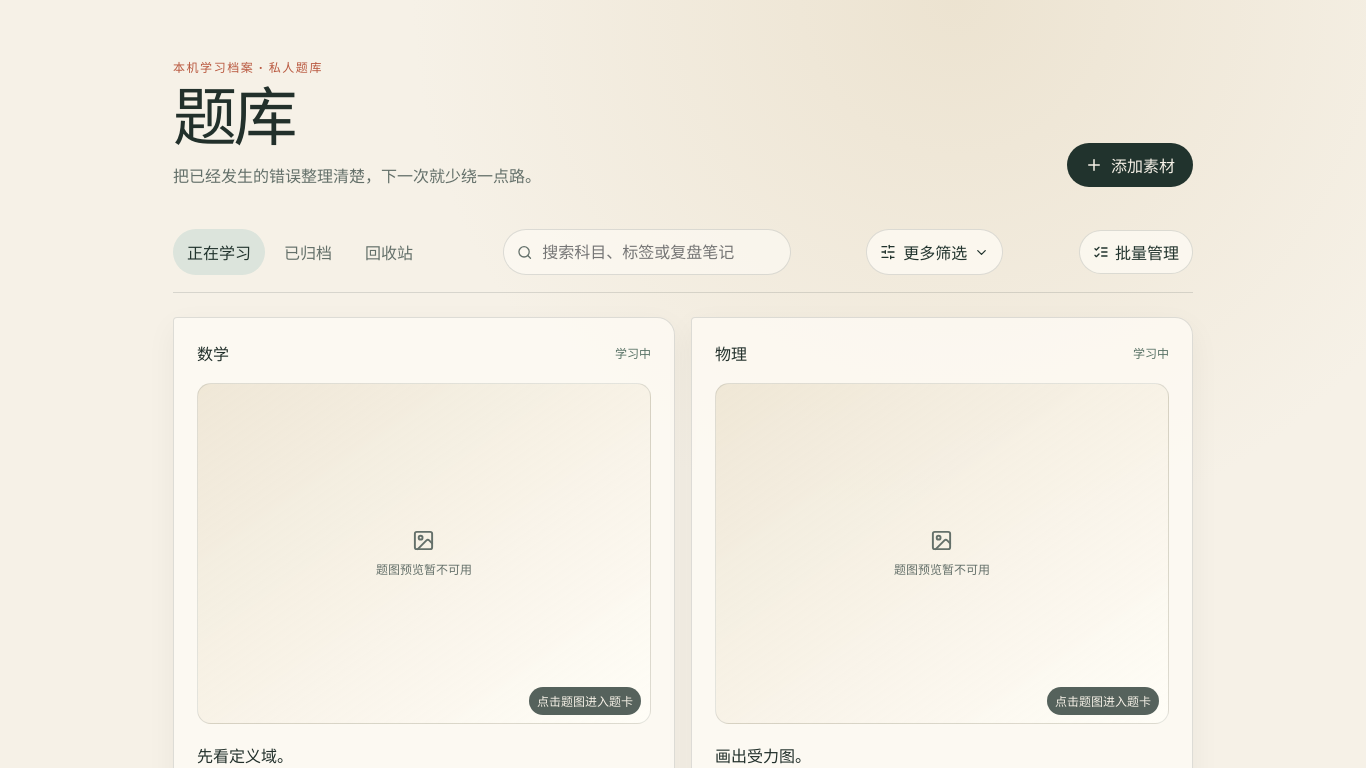
Scenario: LibraryView manual review deck › keeps the selected exam deck when persistence fails
Expected: the text "先看定义域。" is shown, [197,744,293,766]
Click the button "批量管理": {"x": 1136, "y": 252} [1079,230,1193,274]
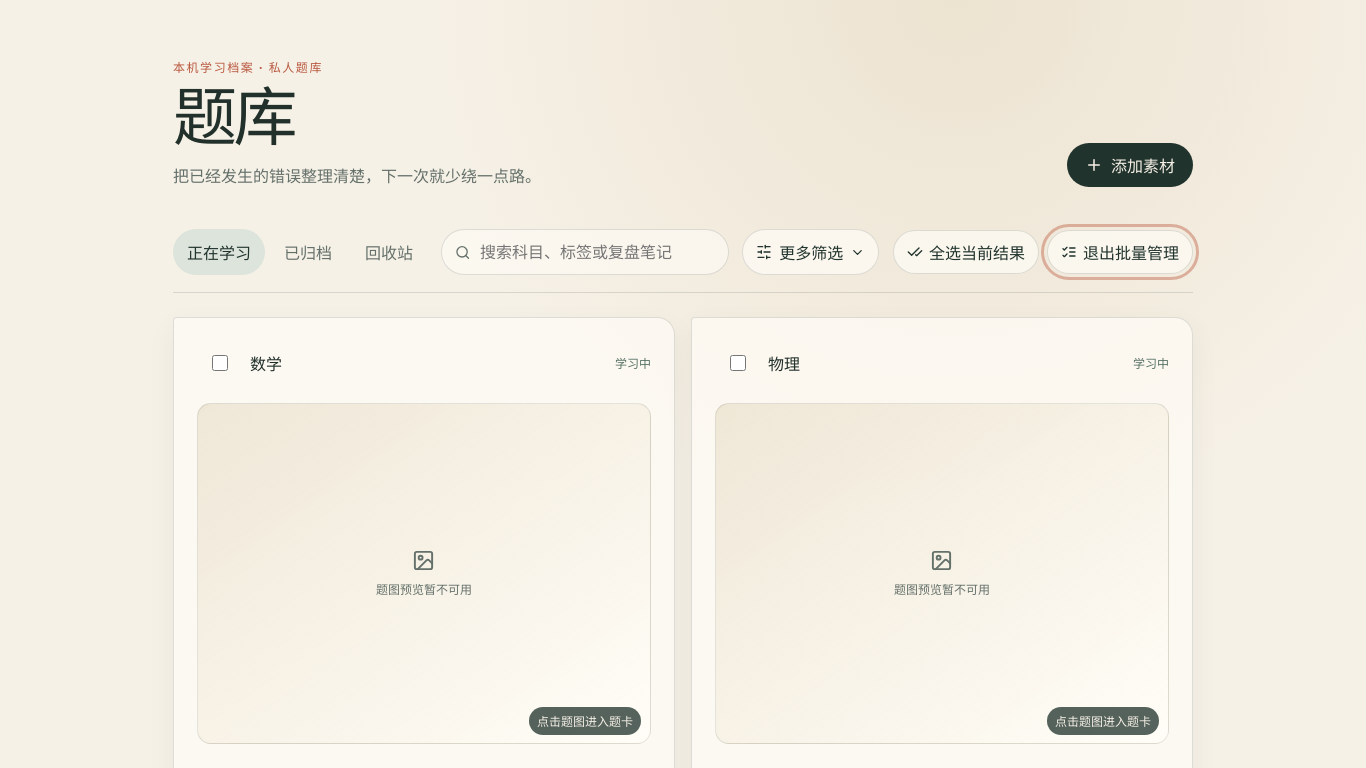
Click the checkbox named "选择 数学 错题": {"x": 220, "y": 363} [212,355,228,371]
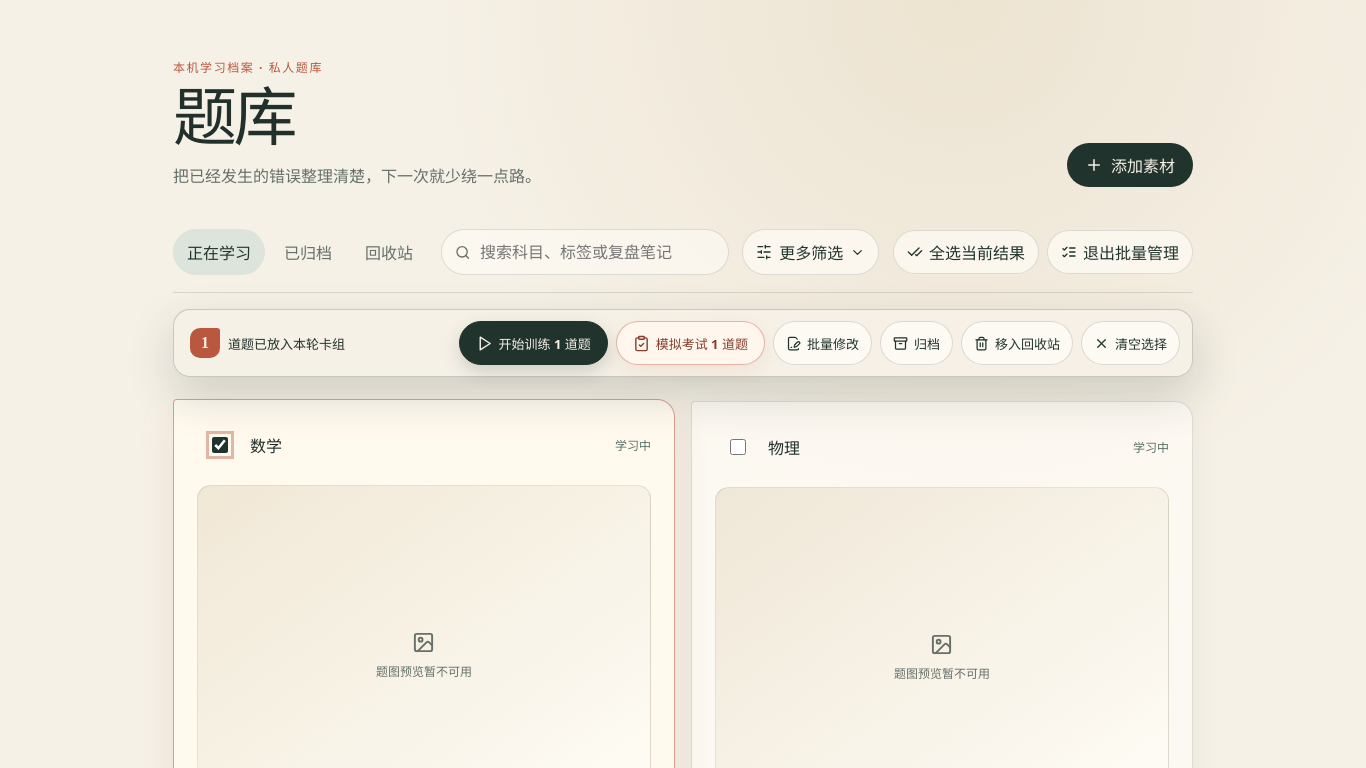
Click the button "模拟考试 1 道题": {"x": 690, "y": 343} [616,321,765,365]
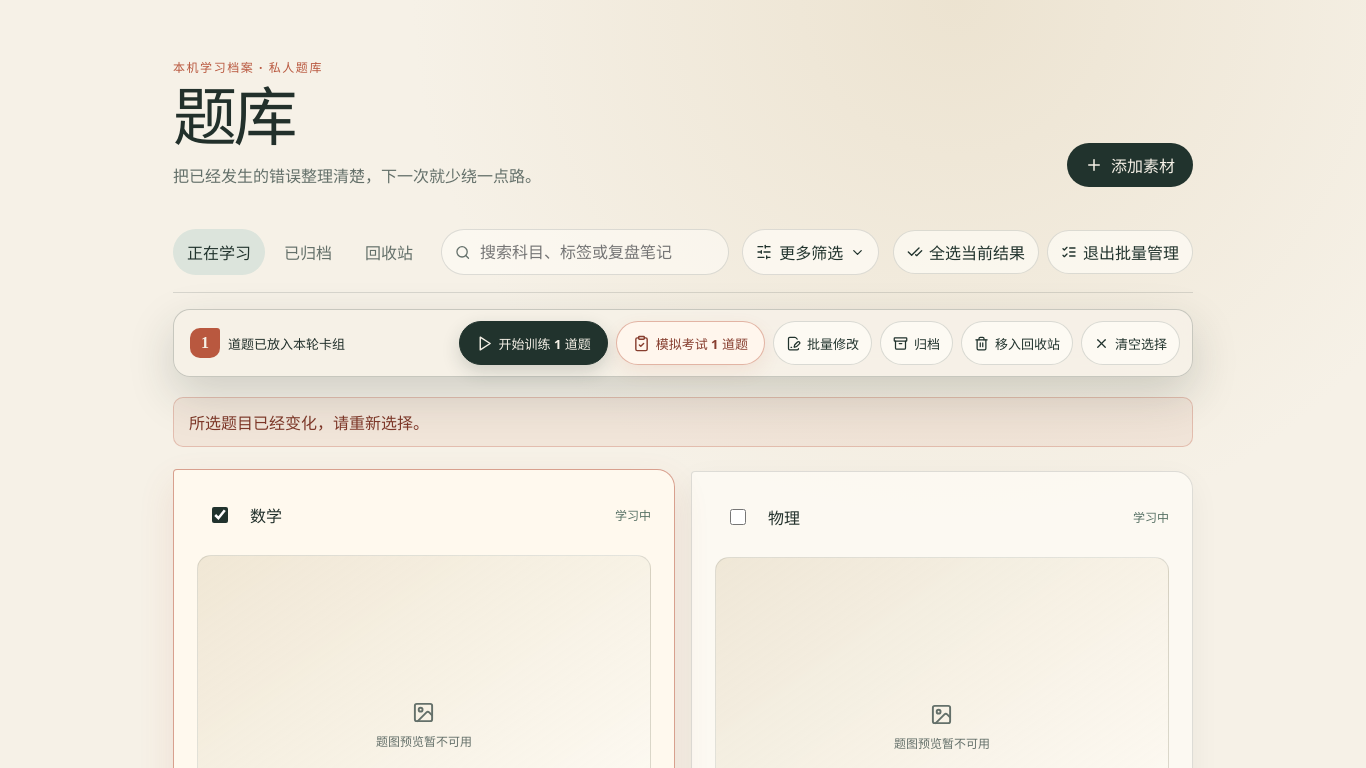
Expected: the checkbox named "选择 数学 错题" is checked, [212,507,228,523]
Expected: the button "模拟考试 1 道题" is enabled, [616,321,765,365]
Expected: the message "所选题目已经变化，请重新选择。" is shown, [173,397,1193,447]
